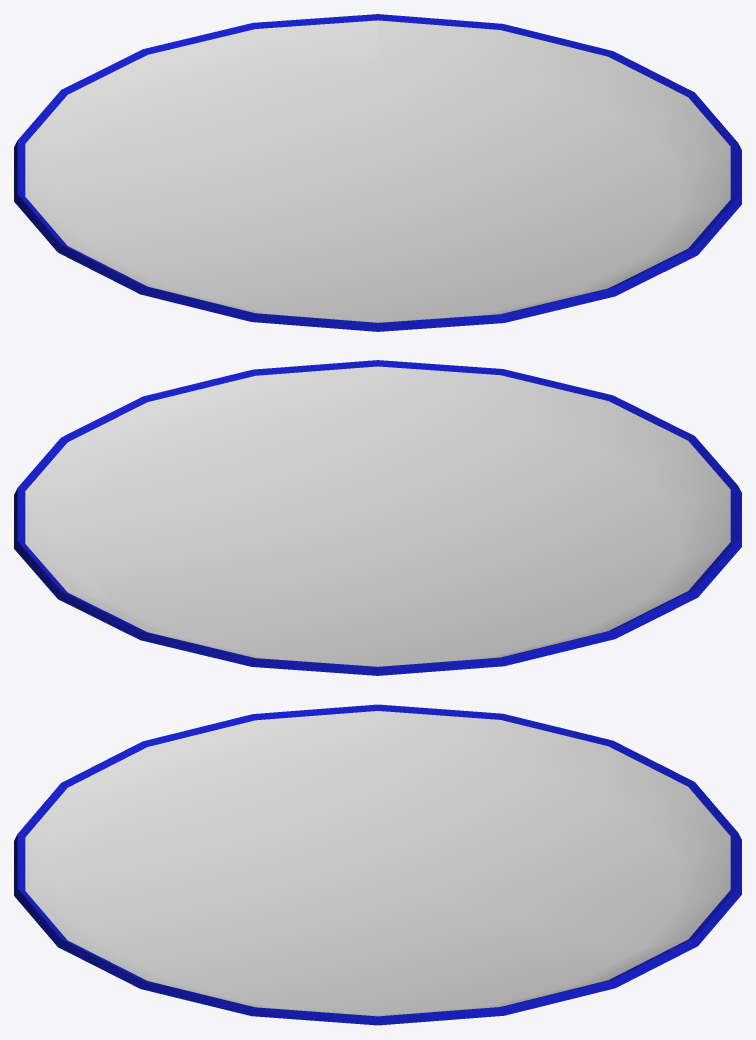
Rendered from Dish_V1_Single.fbx.
The picture shows the model from 3 angles, top to bottom: view 1: azimuth 30°, elevation 25°; view 2: azimuth 150°, elevation 25°; view 3: azimuth 270°, elevation 25°; orthographic projection.
Visible parts, largest first — view 1: Dish_V1_Single; view 2: Dish_V1_Single; view 3: Dish_V1_Single.
Boxes of the visible parts, x1,y1,x2,y2 form: Dish_V1_Single: [14, 14, 741, 331]; Dish_V1_Single: [14, 360, 741, 675]; Dish_V1_Single: [14, 704, 741, 1025].
Bounding box in the file's own units: 44.9 × 2.32 × 44.22.
